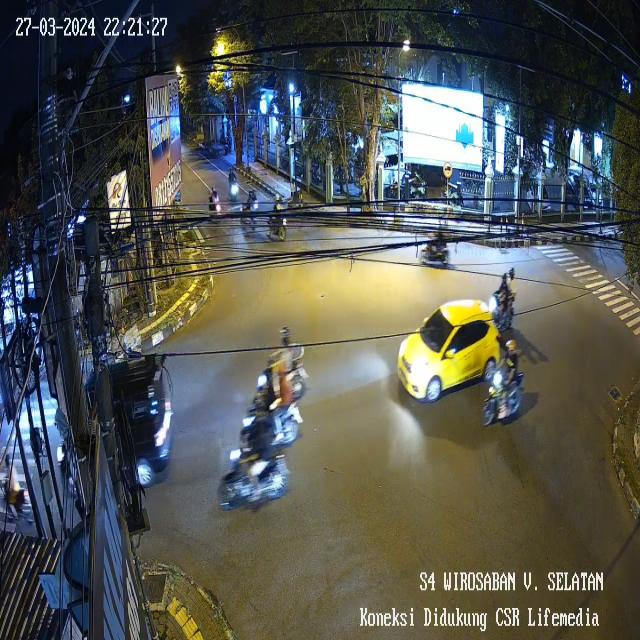car: (54, 341, 180, 503), (396, 296, 502, 404)
motorcycle: (209, 424, 299, 506), (480, 339, 530, 434), (232, 393, 306, 445), (259, 329, 312, 396), (488, 261, 525, 339), (0, 450, 36, 517), (263, 188, 296, 245), (418, 226, 456, 271), (235, 184, 262, 236), (205, 185, 228, 228), (228, 163, 242, 209)
